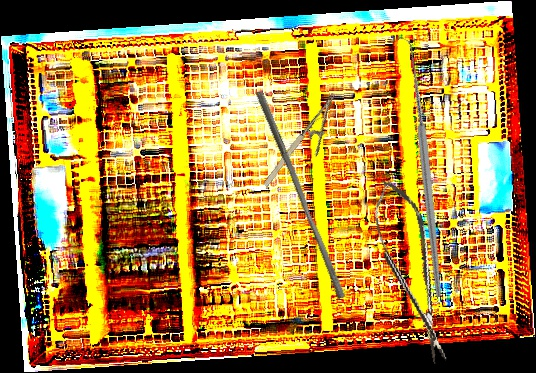Hook Surgical: (309, 36, 530, 298)
Micro Scissor: (366, 174, 458, 370)
Needle Holder: (260, 92, 354, 200)
Pusher: (247, 90, 353, 300)
